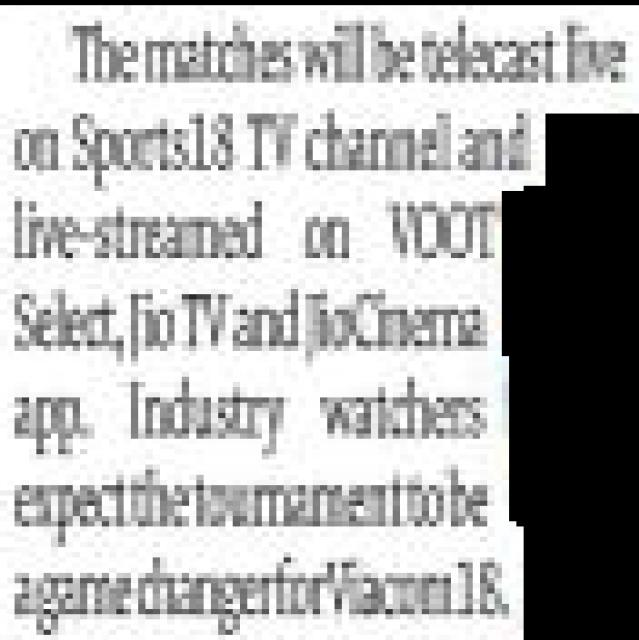paper: (0, 1, 638, 640)
